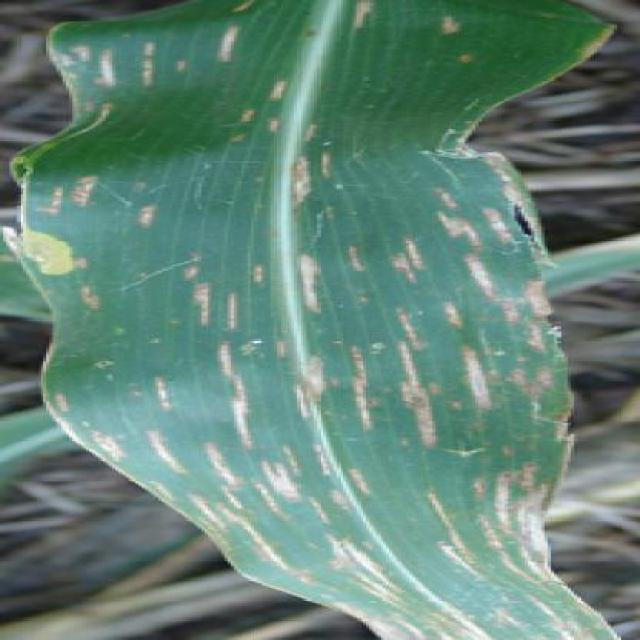Corn_Grey_Leaf_Spot: (17, 0, 598, 640)
